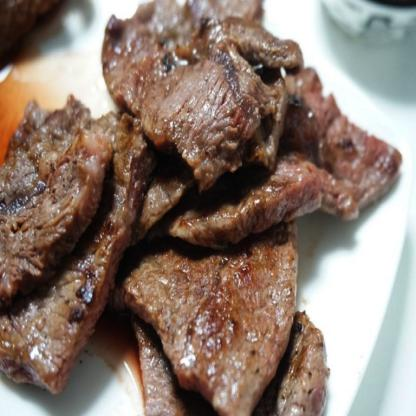Carne: (108, 0, 244, 168), (0, 100, 105, 304), (135, 249, 274, 398), (255, 83, 392, 219), (0, 300, 77, 380), (99, 144, 143, 262)
